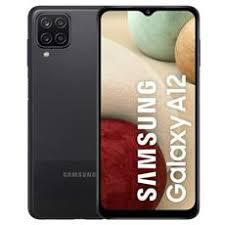Smartphone: (97, 5, 200, 212), (31, 6, 98, 217)
